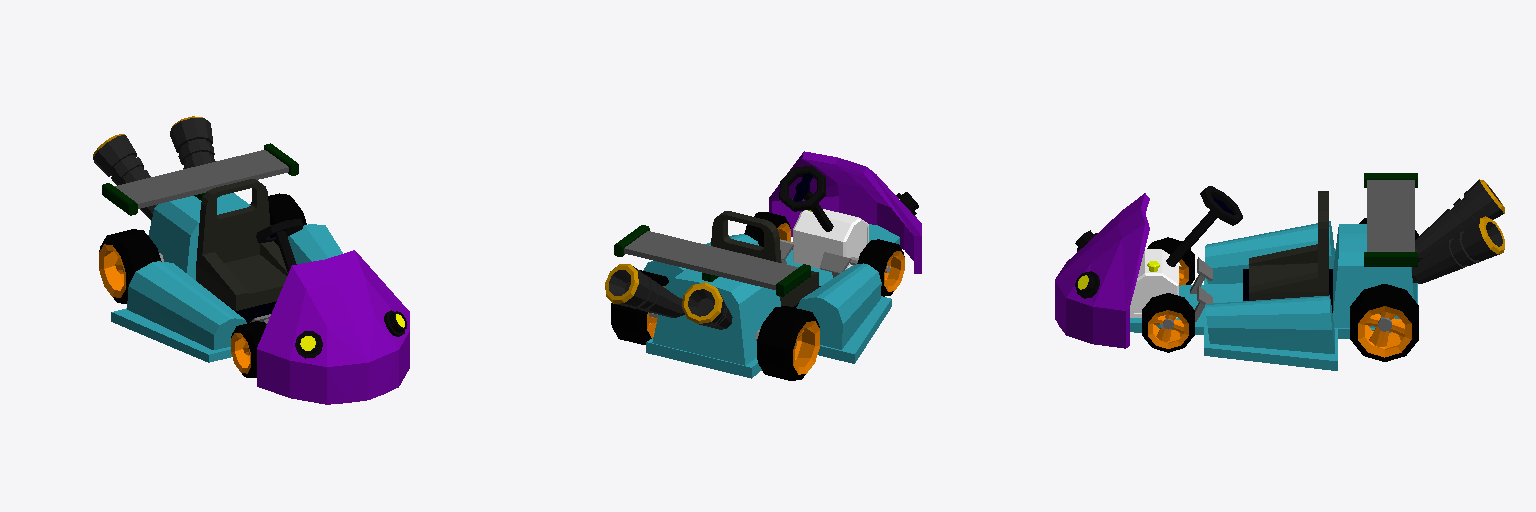
File: Kart1.obj
3 views of the same model, side by side, from view 1: azimuth 30°, elevation 25°; view 2: azimuth 150°, elevation 25°; view 3: azimuth 270°, elevation 25° (orthographic).
Visible parts, largest first — view 1: Hood2_Cylinder.003, KartPlataform1_Cylinder, Chair2_Cube.002, WingsKart1_Cube.003, Wheels2_Cylinder.009, Catalysts2_Cylinder.008, Lights_Kart2_Cylinder.006, SteeringWheel2_Cylinder.002; view 2: KartPlataform1_Cylinder, Wheels2_Cylinder.009, Hood2_Cylinder.003, WingsKart1_Cube.003, Catalysts2_Cylinder.008, Chair2_Cube.002, SteeringWheel2_Cylinder.002, Pedals1_Cylinder.007; view 3: KartPlataform1_Cylinder, Hood2_Cylinder.003, Wheels2_Cylinder.009, Catalysts2_Cylinder.008, Chair2_Cube.002, WingsKart1_Cube.003, SteeringWheel2_Cylinder.002, Lights_Kart2_Cylinder.006, Pedals1_Cylinder.007.
Boxes of the visible parts, <box> form: Hood2_Cylinder.003: <box>257,250,409,404</box>; KartPlataform1_Cylinder: <box>111,193,342,362</box>; Chair2_Cube.002: <box>196,179,287,322</box>; WingsKart1_Cube.003: <box>102,143,298,215</box>; Wheels2_Cylinder.009: <box>99,193,306,377</box>; Catalysts2_Cylinder.008: <box>93,116,215,220</box>; Lights_Kart2_Cylinder.006: <box>295,310,406,358</box>; SteeringWheel2_Cylinder.002: <box>256,219,302,272</box>; KartPlataform1_Cylinder: <box>643,209,899,378</box>; Wheels2_Cylinder.009: <box>611,212,904,380</box>; Hood2_Cylinder.003: <box>769,151,921,273</box>; WingsKart1_Cube.003: <box>614,225,810,296</box>; Catalysts2_Cylinder.008: <box>605,264,732,329</box>; Chair2_Cube.002: <box>711,211,820,307</box>; SteeringWheel2_Cylinder.002: <box>779,165,833,231</box>; Pedals1_Cylinder.007: <box>780,241,851,277</box>; KartPlataform1_Cylinder: <box>1130,221,1417,370</box>; Hood2_Cylinder.003: <box>1055,193,1149,348</box>; Wheels2_Cylinder.009: <box>1142,218,1418,361</box>; Catalysts2_Cylinder.008: <box>1412,179,1504,283</box>; Chair2_Cube.002: <box>1243,191,1332,312</box>; WingsKart1_Cube.003: <box>1364,173,1417,266</box>; SteeringWheel2_Cylinder.002: <box>1166,186,1242,266</box>; Lights_Kart2_Cylinder.006: <box>1075,230,1099,298</box>; Pedals1_Cylinder.007: <box>1190,257,1212,321</box>.
Size of the model in its own units: 10.53 by 5.59 by 17.78.